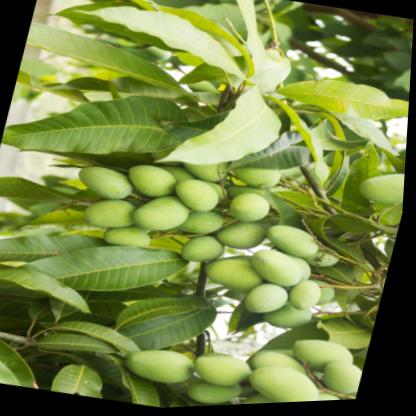mango: (108, 332, 211, 395), (194, 336, 269, 397), (243, 243, 321, 297), (246, 361, 335, 407), (122, 186, 195, 242), (65, 156, 145, 207), (77, 187, 154, 238), (263, 215, 335, 268), (163, 169, 236, 221), (118, 156, 186, 206), (224, 188, 285, 234), (354, 166, 408, 214), (284, 278, 333, 319)
